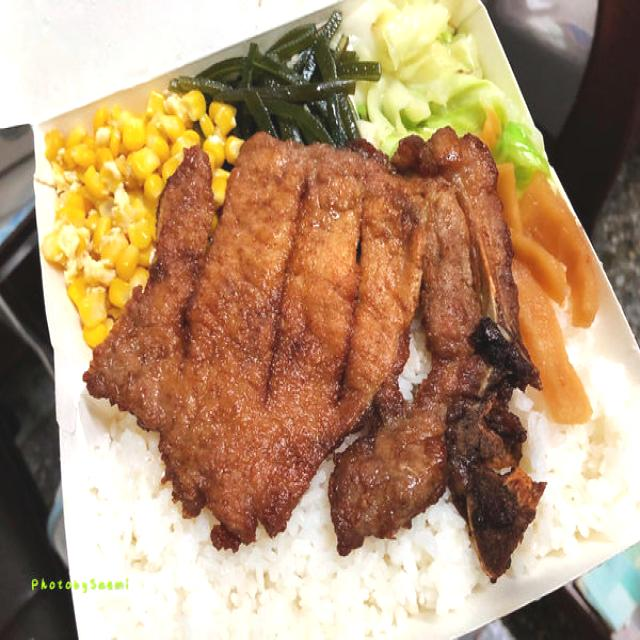cabbage: (366, 12, 493, 130)
meat: (173, 171, 518, 505)
rice: (90, 534, 376, 632), (563, 438, 640, 526)
